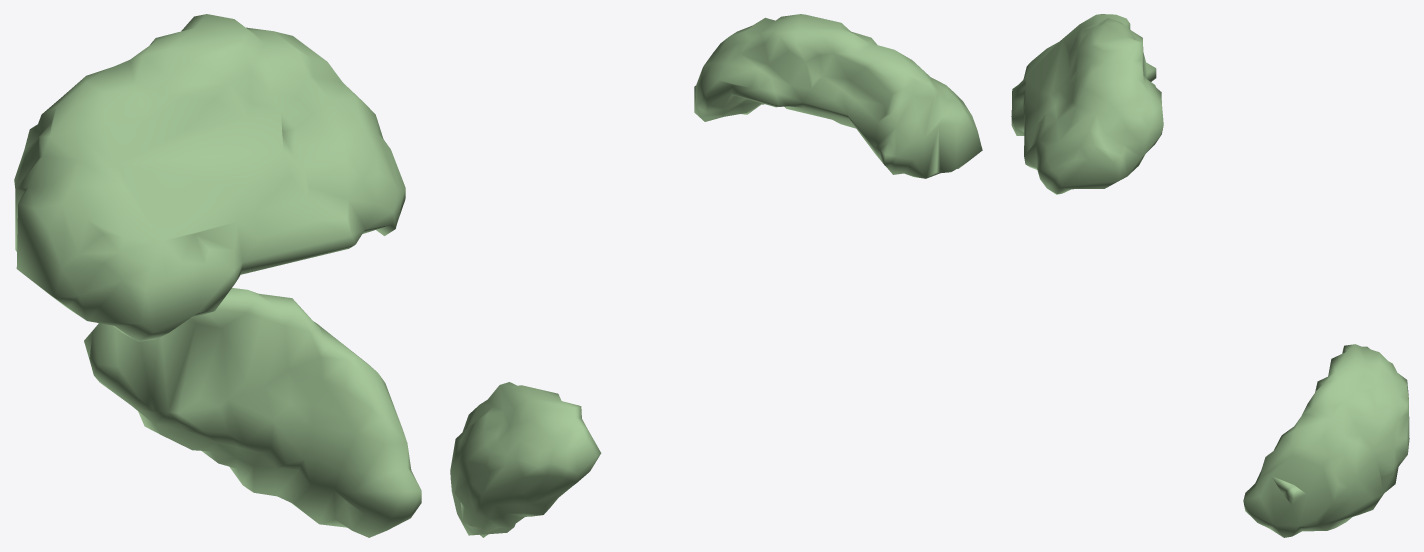
Rendered from fetus.lymphatic.LOD2.glb.
3 views of the same model, side by side, from view 1: azimuth 30°, elevation 25°; view 2: azimuth 150°, elevation 25°; view 3: azimuth 270°, elevation 25° (orthographic). The views are drawn at different scales.
Visible parts, largest first — view 1: FETUS.LYMPHATIC.THYMUS, FETUS.LYMPHATIC.SPLEEN; view 2: FETUS.LYMPHATIC.THYMUS, FETUS.LYMPHATIC.SPLEEN; view 3: FETUS.LYMPHATIC.SPLEEN, FETUS.LYMPHATIC.THYMUS.
Part boxes in pixels (box(x1,y1,x2,y2)): FETUS.LYMPHATIC.THYMUS: box(14, 14, 405, 341); FETUS.LYMPHATIC.SPLEEN: box(84, 288, 421, 537); FETUS.LYMPHATIC.THYMUS: box(694, 14, 982, 178); FETUS.LYMPHATIC.SPLEEN: box(450, 382, 601, 537); FETUS.LYMPHATIC.SPLEEN: box(1243, 344, 1409, 537); FETUS.LYMPHATIC.THYMUS: box(1011, 14, 1163, 194).
Size of the model in its own units: 0.0433 by 0.051 by 0.0453.
